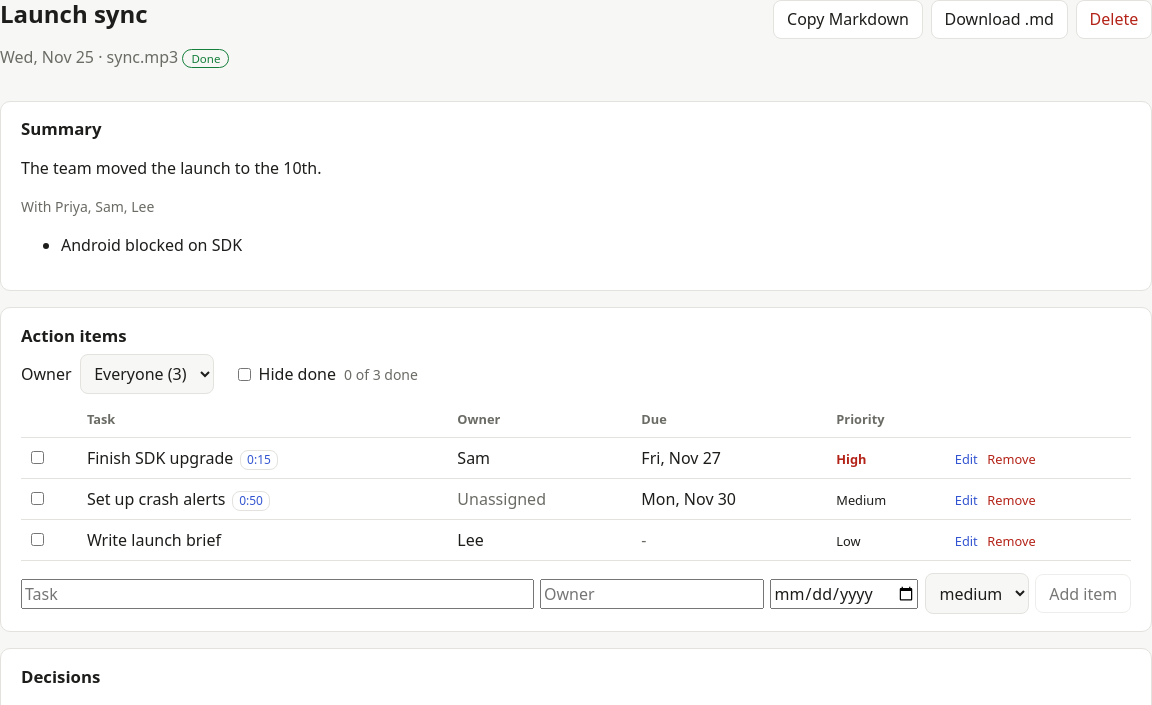
Test: MeetingView › action items › applies the saved edit, adds and removes items
This screenshot has width=1152, height=705.
Click the button with aria-label "Edit: Write launch brief" at (966, 542), box [950,532,982,552]
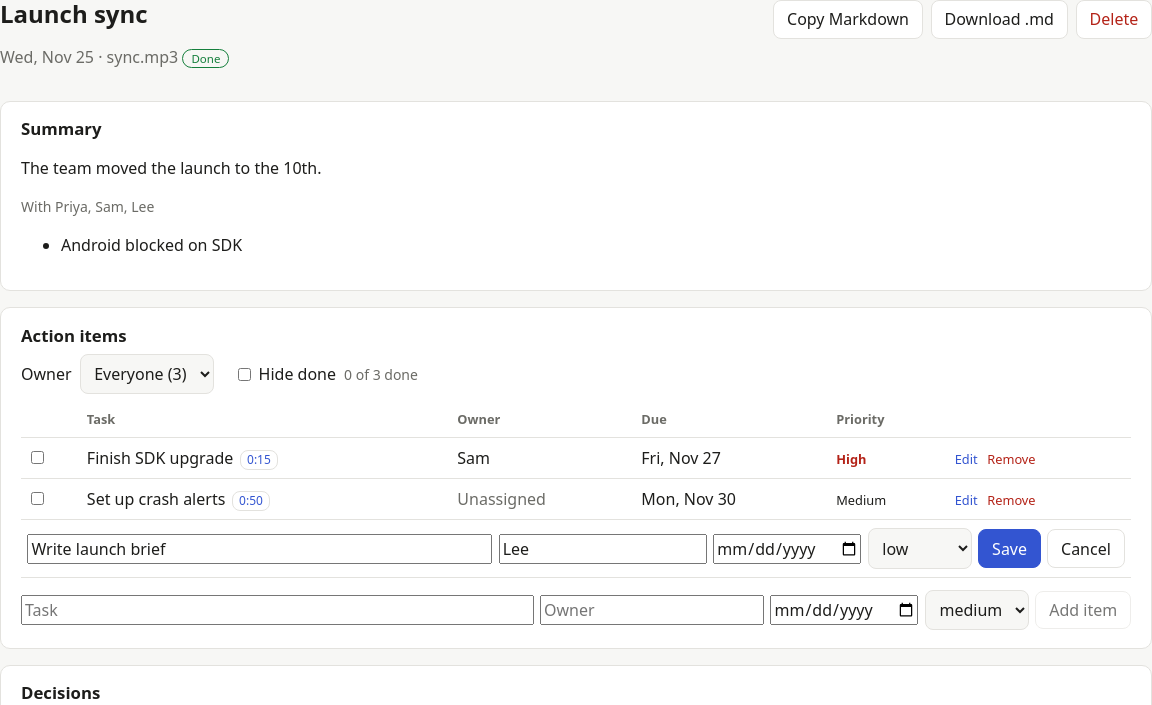
Replace the text in the field named "Edit owner" with "Priya" at (603, 549), box [499,534,707,564]
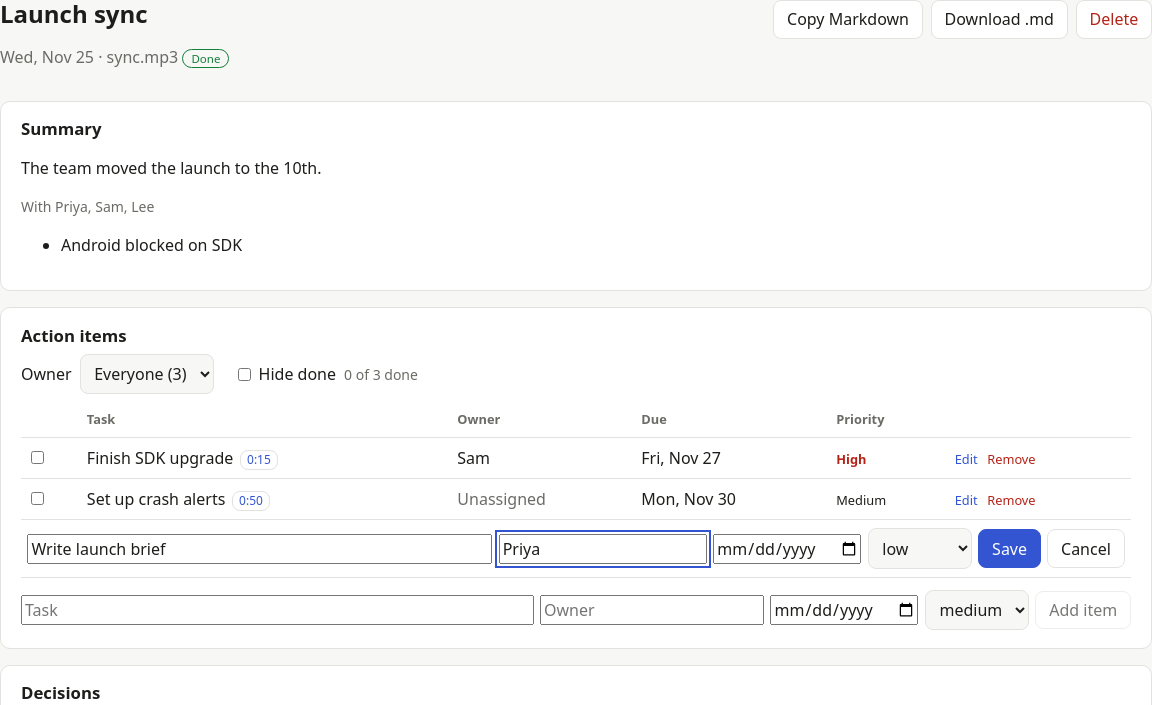
Click the button "Save" at (1010, 549), box [978,529,1041,568]
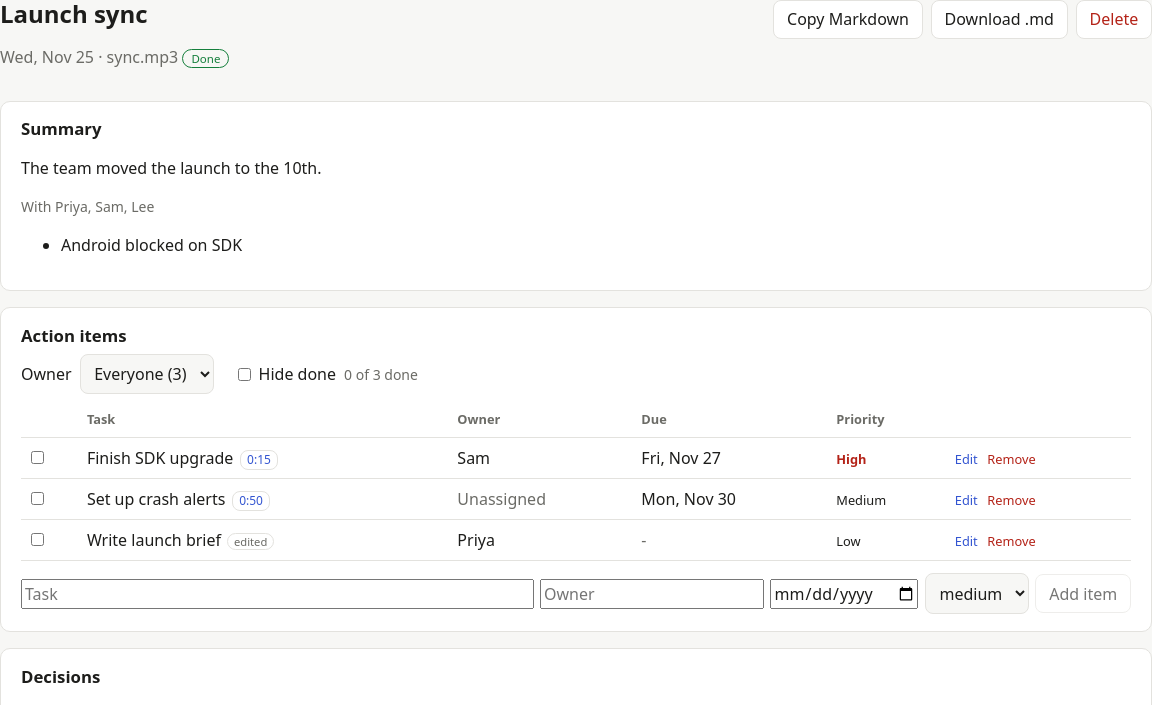
Result: the text "Write launch brief" shows "Priya" at [457,530,495,552]
Result: the text "Write launch brief" shows "edited" at [234,534,267,550]
Type "Book retro" into the field named "New item task" at (277, 594), box [21,579,534,609]
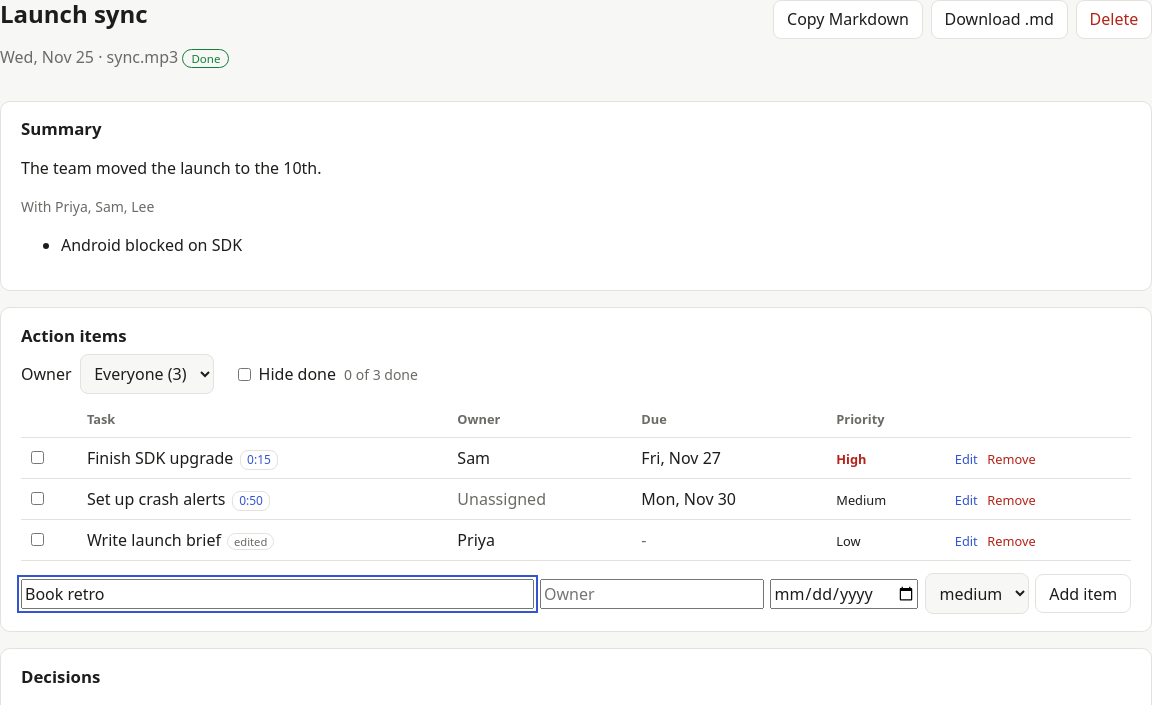
Click the button "Add item" at (1083, 594), box [1036,574,1131,613]
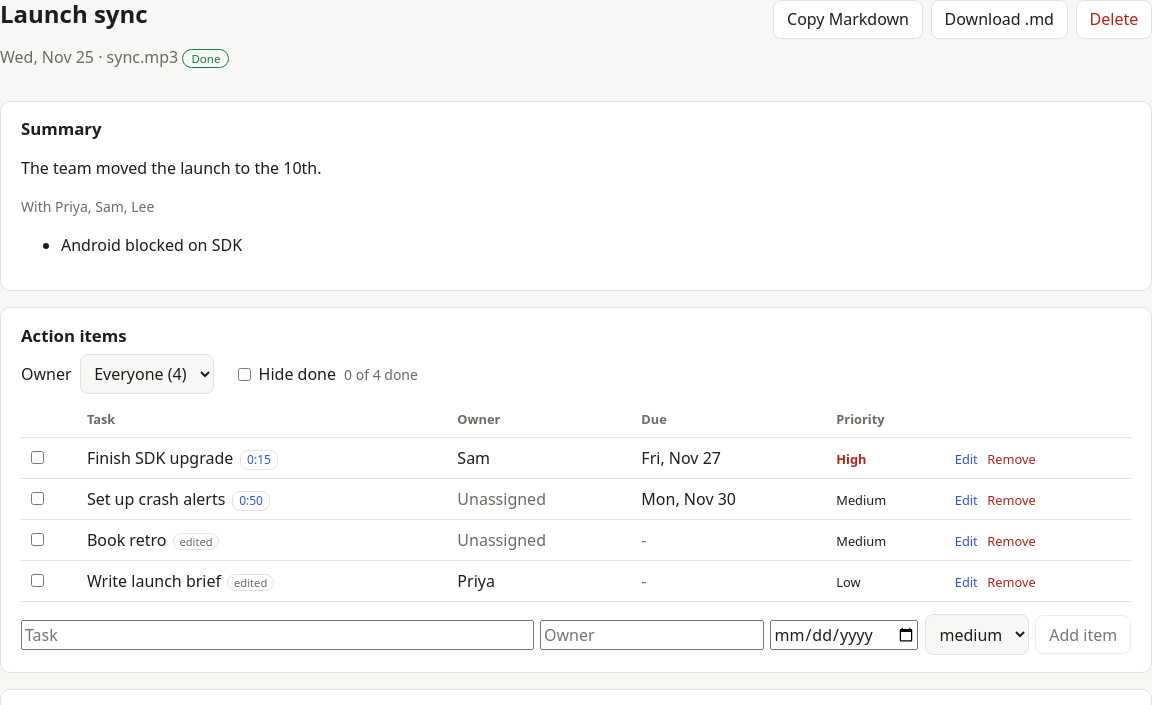
Result: the text "Book retro" is shown at [87,530,166,552]
Click the button with aria-label "Remove: Set up crash alerts" at (1012, 501), box [982,492,1040,511]
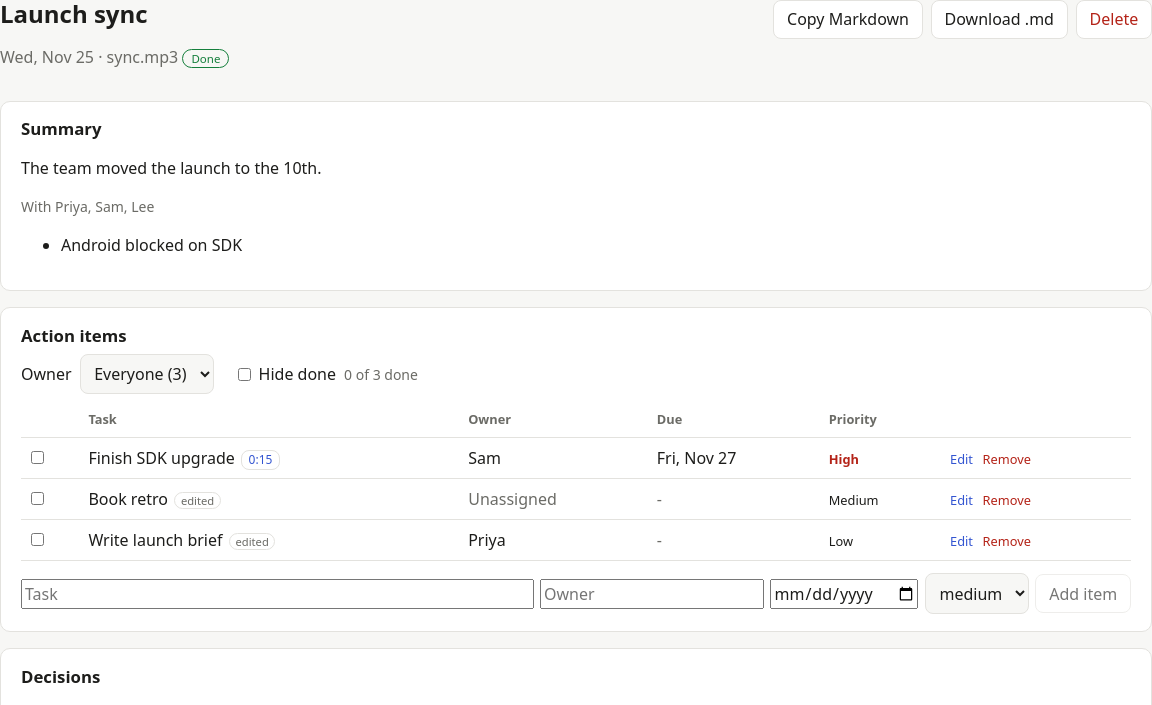
Result: the text "Set up crash alerts" is gone
Result: the text "0 of 3 done" is shown at [344,364,418,385]
